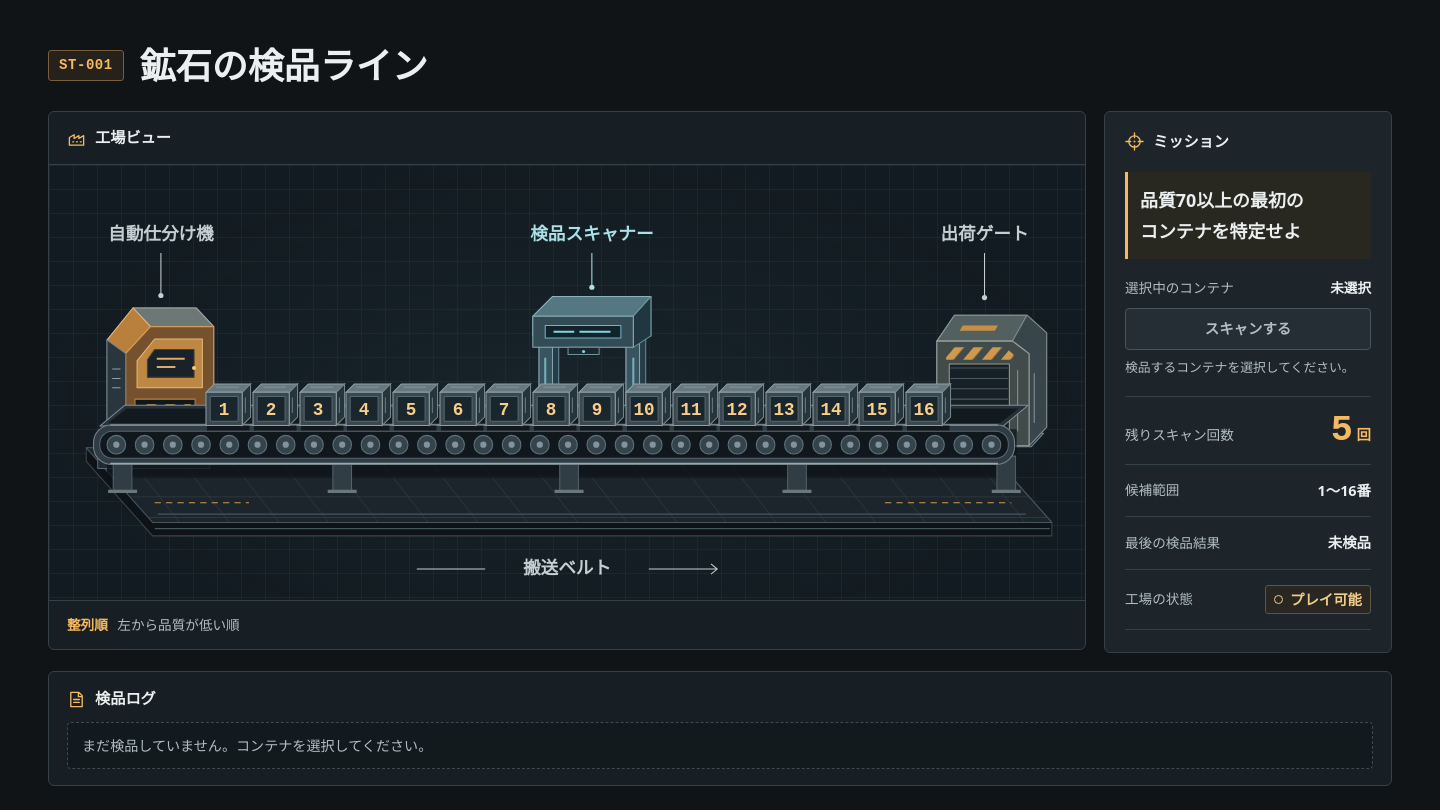
Test case: inspection and recovery › synchronizes after a stale step without applying another scan or showing an animation in reduced-motion mode
Click the radio button labelled "8": [555, 404] box 533,384 -> 577,425
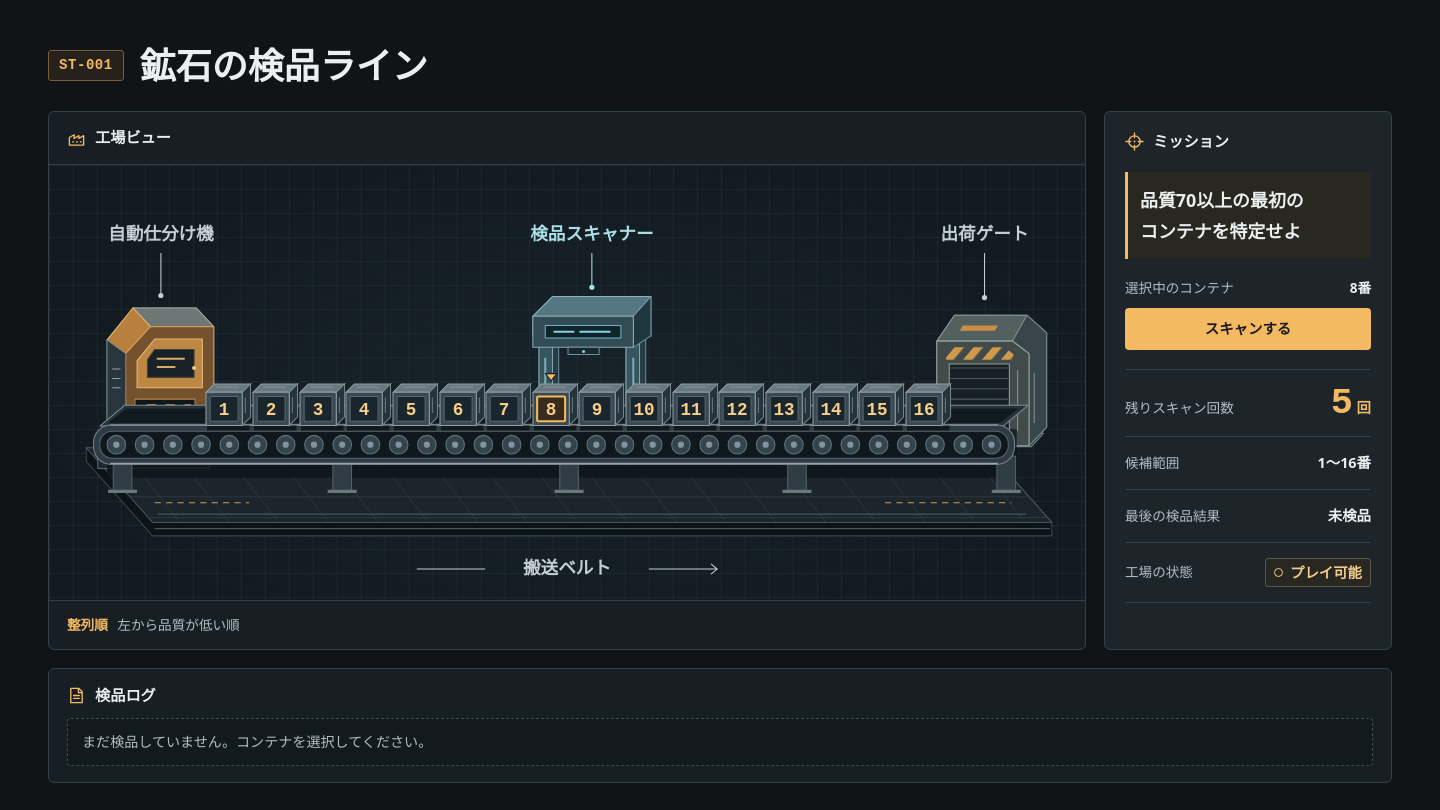
Click the button "スキャンする": [1248, 329] box 1125,308 -> 1371,350
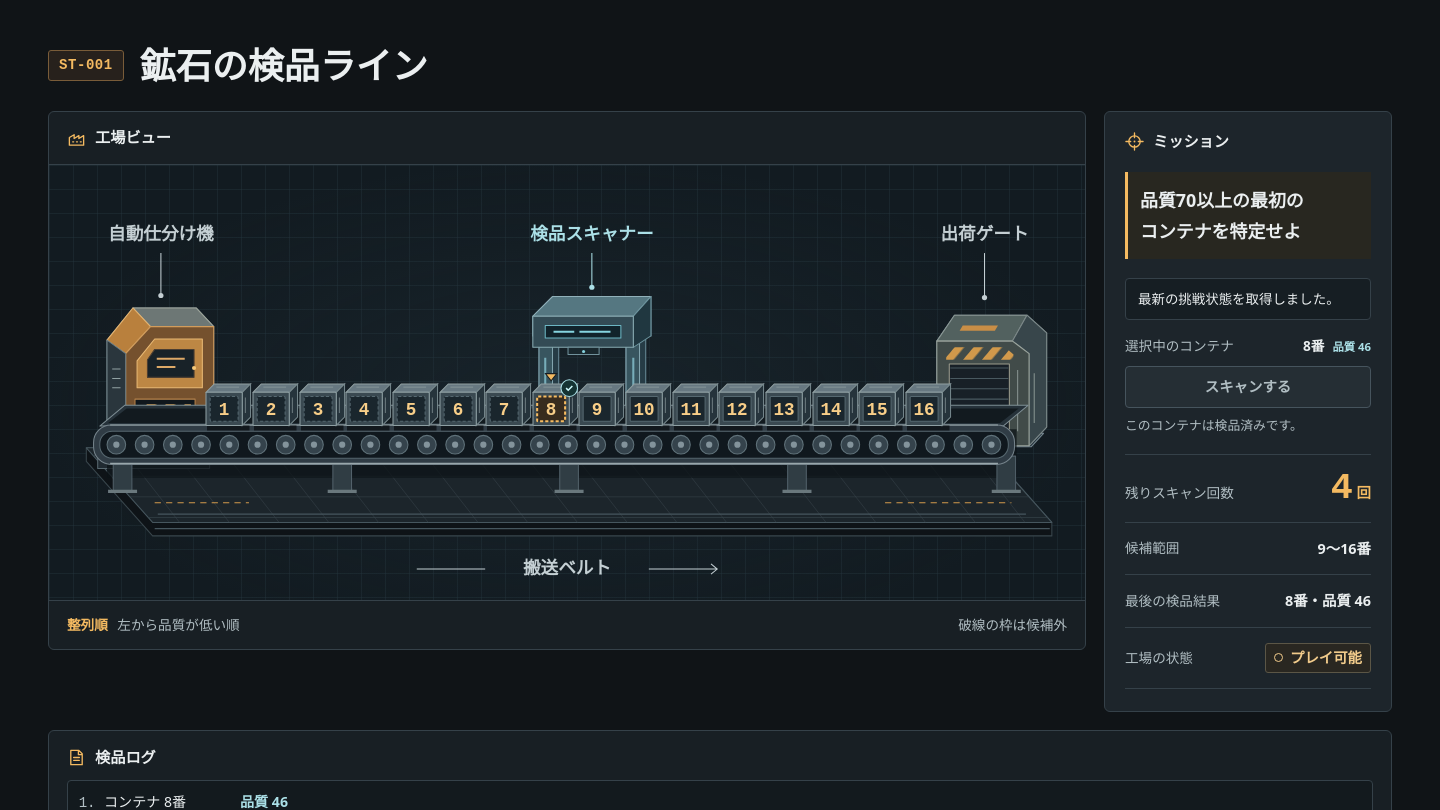
Check: the message with class "game-feedback" reads "最新の挑戦状態を取得しました。", box 1138,290 -> 1340,308
Check: the text with class "candidate-reading" reads "9〜16番", box 1318,539 -> 1371,558
